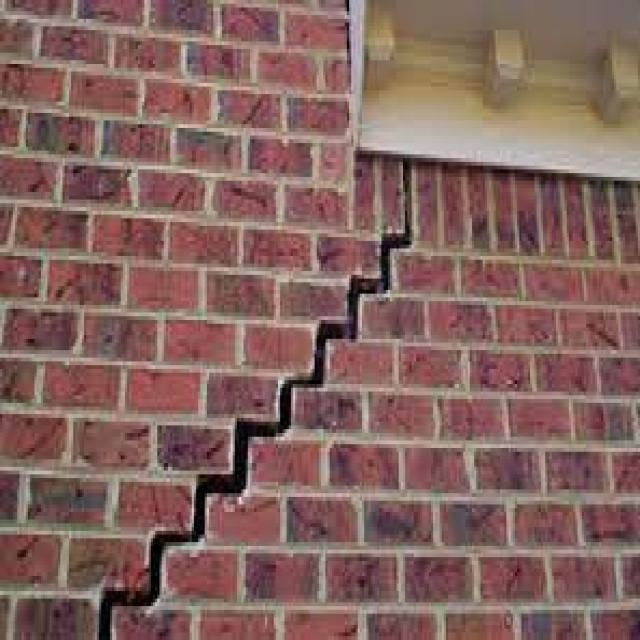Crack: (92, 154, 414, 636)
